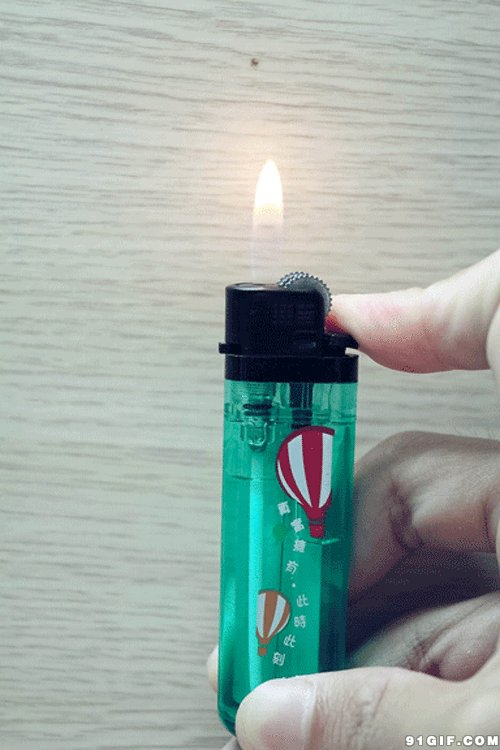fire: (232, 145, 295, 271)
